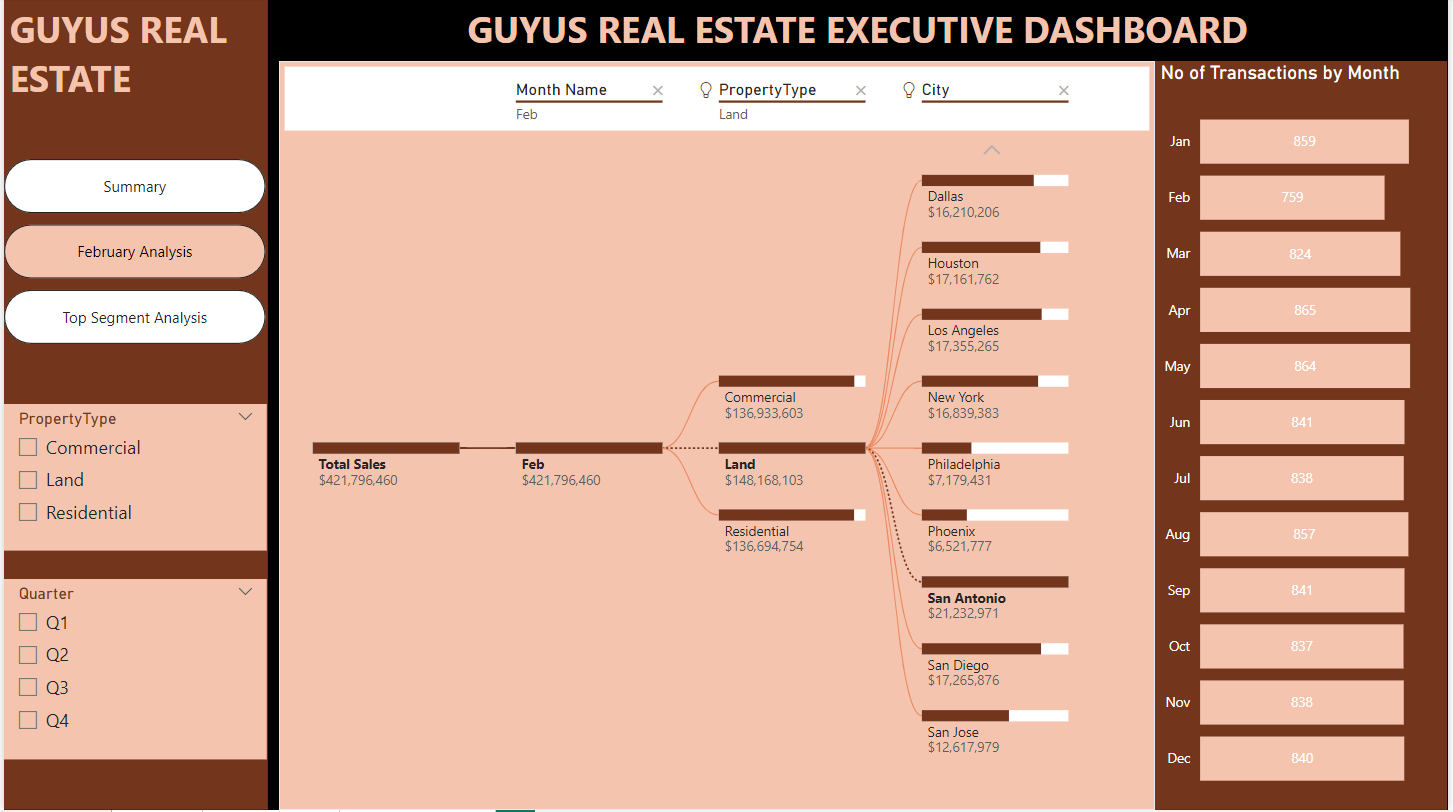

The dashboard page shown, as its layout file describes it:
{"tool":"powerbi","page":{"name":"February Analysis","canvas":[1280,720],"ordinal":1},"visuals":[{"type":"shape","box":[0,0,234.4,719.8],"z":0},{"type":"textbox","box":[0,0,234.4,109.9],"z":1000},{"type":"textbox","box":[234.4,0,1045.6,55.4],"z":2000},{"type":"slicer","fields":{"Values":["Calendar Dim.Quarter"]},"box":[0,515.4,232.7,159.8],"z":3000},{"type":"slicer","fields":{"Values":["Property Dim.PropertyType"]},"box":[0,360,232.7,130],"z":4000},{"type":"pageNavigator","box":[0,142.8,232.3,164],"z":5000},{"type":"decompositionTreeVisual","fields":{"Analyze":["Calculations.Total Sales"],"ExplainBy":["Calendar Dim.Month Name","Property Dim.PropertyType","Location Dim.City"]},"box":[243.8,55.9,776.7,664.1],"z":6000},{"type":"clusteredBarChart","fields":{"Y":["Calculations.No of Transactions"],"Category":["Calendar Dim.Month Name"]},"box":[1021,56,259,664],"z":7000}]}

Visuals, with their boxes on the page's 1280x720 design canvas (x1, y1, x2, y2). These are canvas units, not pixel positions in the 1453x812 screenshot, which may show the page scaled, cropped or inside an application window:
shape: region(0, 0, 234, 720)
textbox: region(0, 0, 234, 110)
textbox: region(234, 0, 1280, 55)
slicer - Calendar Dim.Quarter: region(0, 515, 233, 675)
slicer - Property Dim.PropertyType: region(0, 360, 233, 490)
pageNavigator: region(0, 143, 232, 307)
decompositionTreeVisual - Calculations.Total Sales x Calendar Dim.Month Name: region(244, 56, 1020, 720)
clusteredBarChart - Calculations.No of Transactions x Calendar Dim.Month Name: region(1021, 56, 1280, 720)
